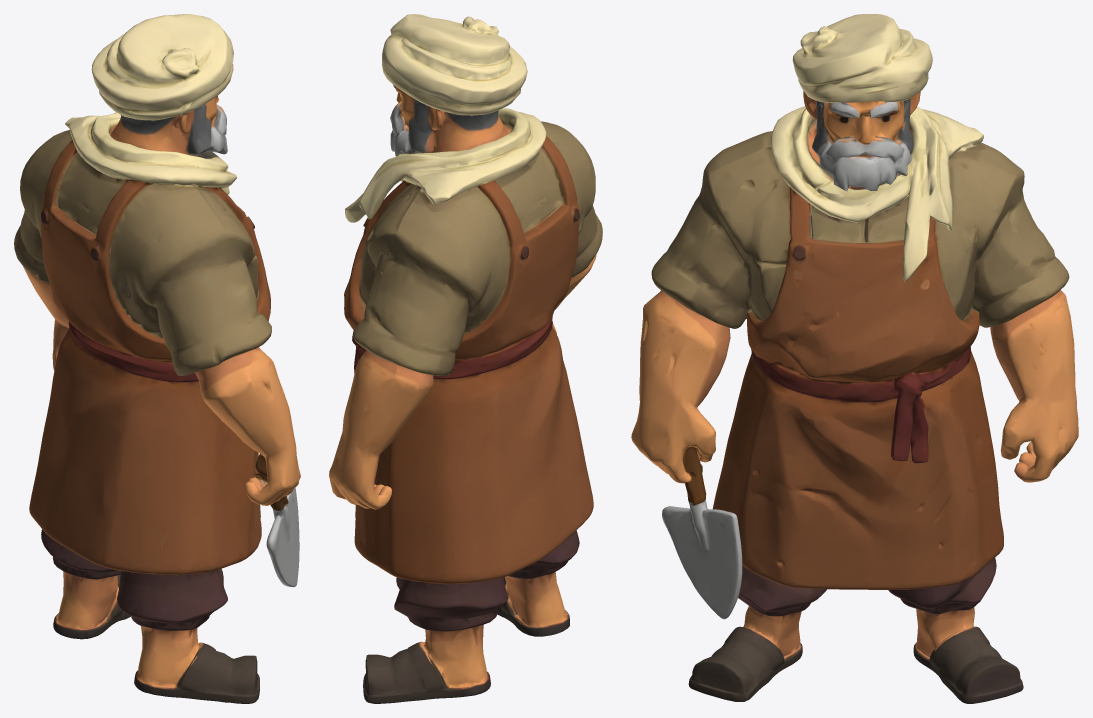
File: badr.glb
3 renders of one model, left to right at view 1: azimuth 30°, elevation 25°; view 2: azimuth 150°, elevation 25°; view 3: azimuth 270°, elevation 25°, orthographic. The views are drawn at different scales.
Visible parts, largest first — view 1: tripo_node_84c030b5-423f-46b2-9086-13981ef51c17; view 2: tripo_node_84c030b5-423f-46b2-9086-13981ef51c17; view 3: tripo_node_84c030b5-423f-46b2-9086-13981ef51c17.
Part boxes in pixels (x1=…): tripo_node_84c030b5-423f-46b2-9086-13981ef51c17: x1=14, y1=14, x2=300, y2=703; tripo_node_84c030b5-423f-46b2-9086-13981ef51c17: x1=329, y1=14, x2=602, y2=703; tripo_node_84c030b5-423f-46b2-9086-13981ef51c17: x1=631, y1=14, x2=1078, y2=703.
Bounding box in the file's own units: 0.3226 × 1 × 0.6099.
1 material, 1 textured.
